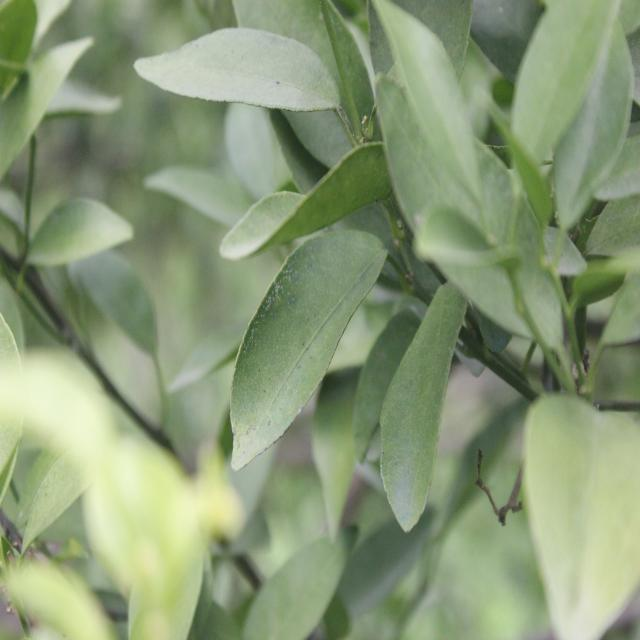blackspot: (228, 297, 327, 467), (190, 38, 296, 99), (381, 432, 409, 492)
